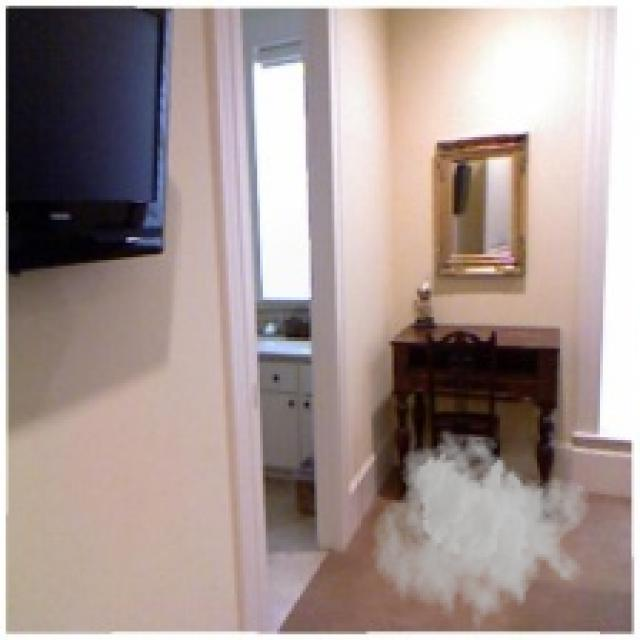smoke: (372, 429, 594, 637)
